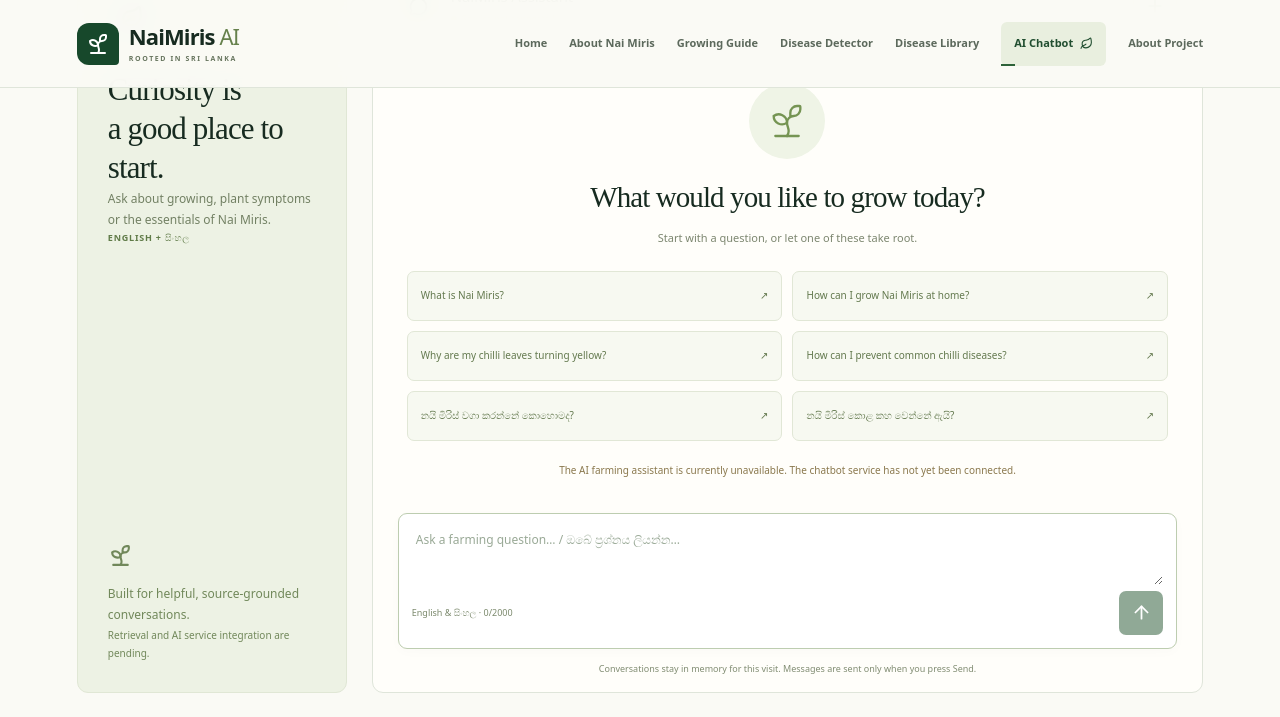
Test: AI chat interface › supports Sinhala suggestions, input and an honest unavailable response
(page scrolled)
Expected: the text "The AI farming assistant is currently unavailable. The chatbot service has not yet been connected." is shown, [559,462,1016,476]
Click the button "නයි මිරිස් වගා කරන්නේ කොහොමද? ↗". click: (497, 415)
box: [407,390,782,440]
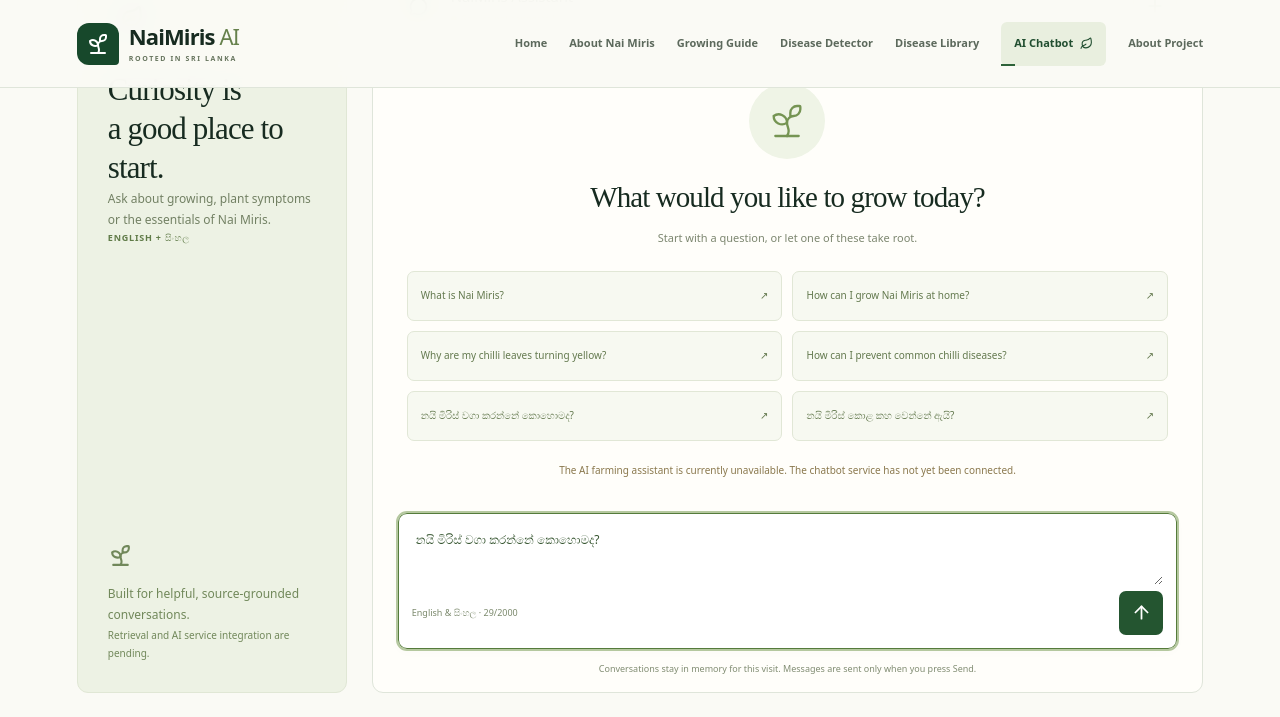
Now the text box named "Your farming question" holds "නයි මිරිස් වගා කරන්නේ කොහොමද?", box [412,526,1163,584]
Click the button named "Send message". click: (1141, 612)
box: [1119,590,1163,634]
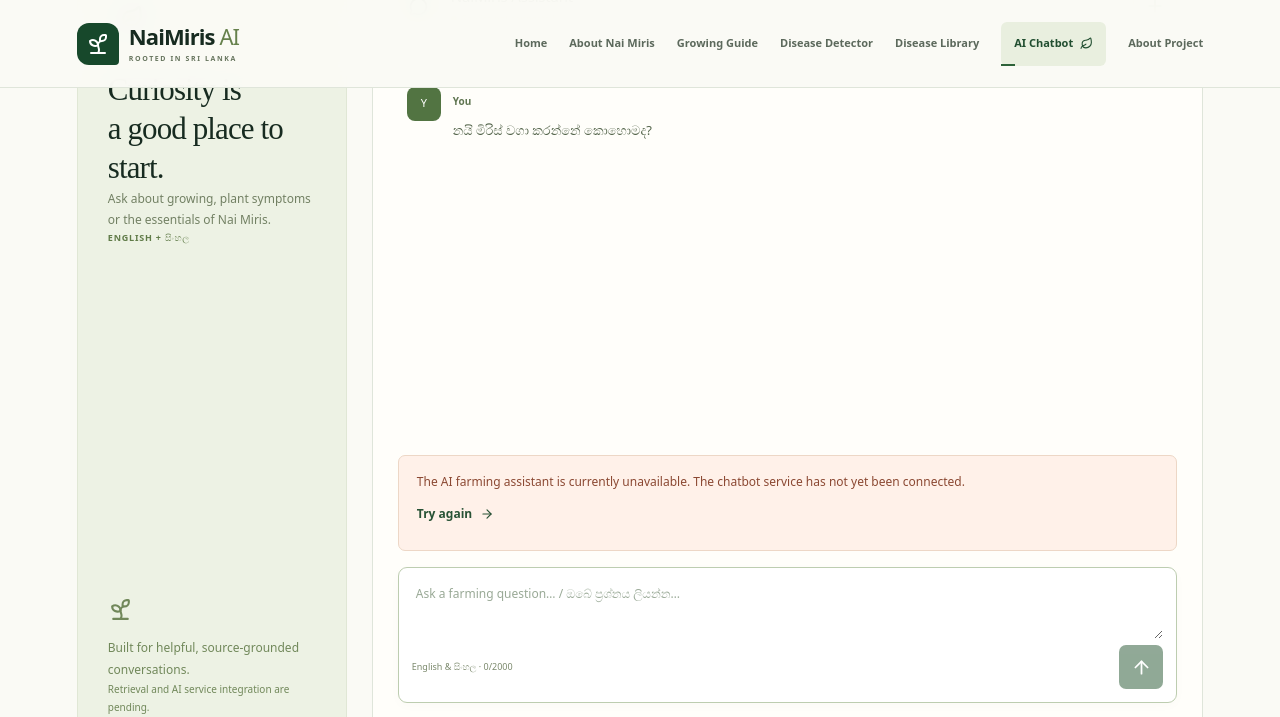
Expected: the text "නයි මිරිස් වගා කරන්නේ කොහොමද?" is shown, [453,120,652,143]
Now the message shows "The AI farming assistant is currently unavailable. The chatbot service has not yet been connected.", box [417,474,965,490]
